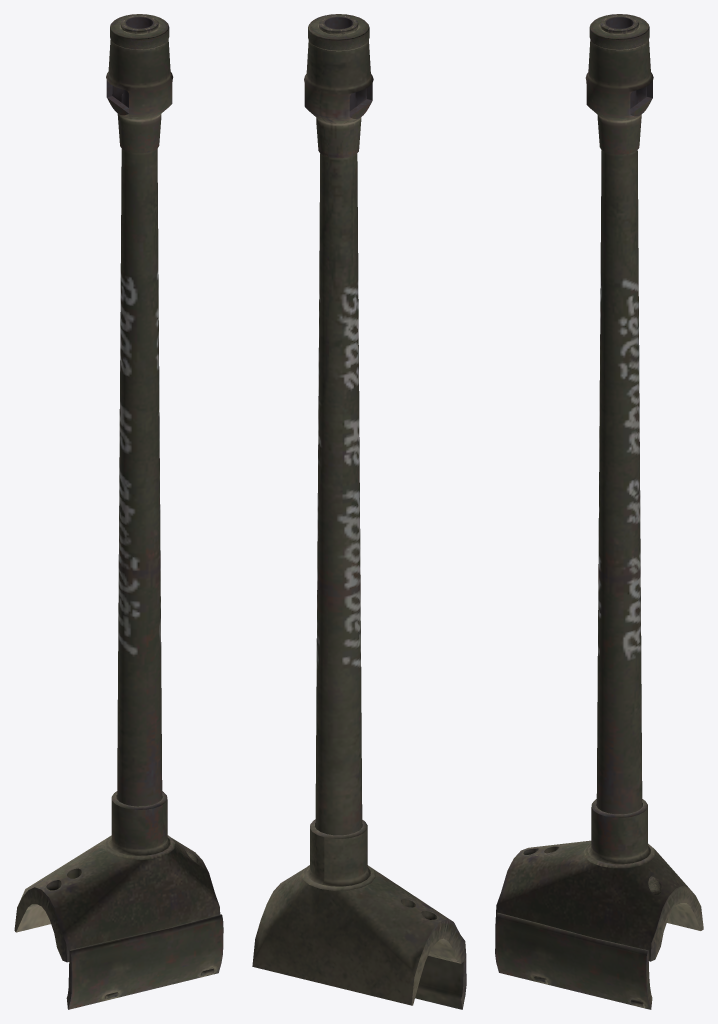
File: Gun_01.glb
3 renders of one model, left to right at view 1: azimuth 30°, elevation 25°; view 2: azimuth 150°, elevation 25°; view 3: azimuth 330°, elevation 25°, orthographic. The views are drawn at different scales.
Parts seen in each view (by area): view 1: set_0_group_0; view 2: set_0_group_0; view 3: set_0_group_0.
Part boxes in pixels (<box>): set_0_group_0: <box>14,14,223,1009</box>; set_0_group_0: <box>252,14,466,1009</box>; set_0_group_0: <box>495,14,703,1009</box>.
Size of the model in its own units: 0.8553 by 5.04 by 0.5451.
1 material, 1 textured.
